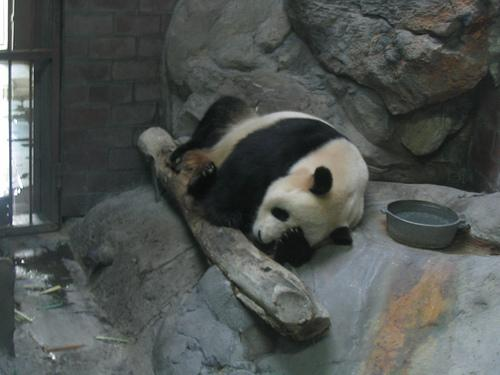panda: (167, 96, 368, 266)
